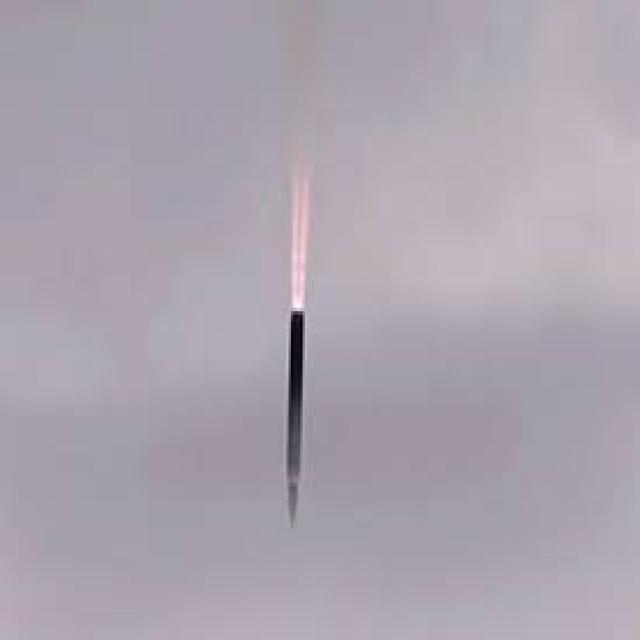missile: (282, 288, 310, 530)
